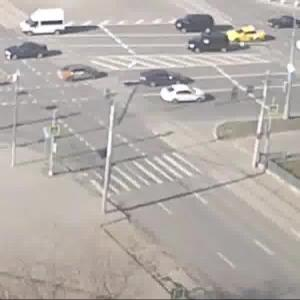car: (139, 68, 201, 92), (21, 10, 70, 36), (254, 11, 300, 38), (191, 30, 235, 57), (164, 84, 204, 108), (58, 66, 104, 84), (6, 43, 48, 62), (227, 21, 262, 42), (175, 16, 212, 33)
